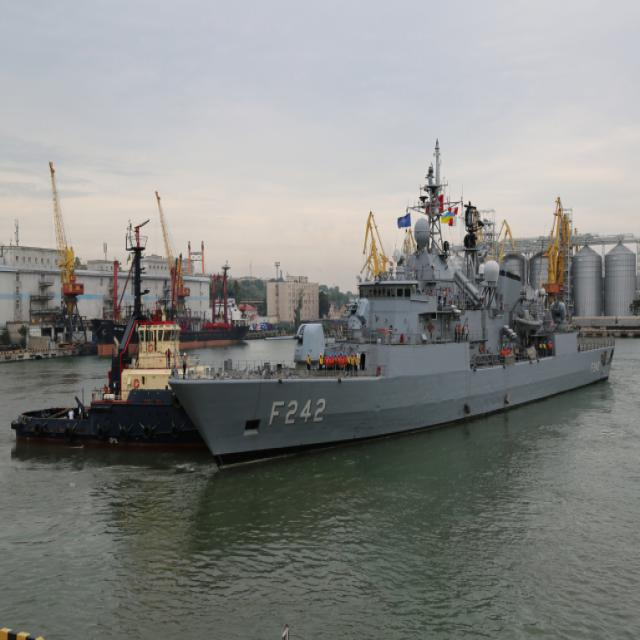Fragata: (167, 213, 625, 479)
